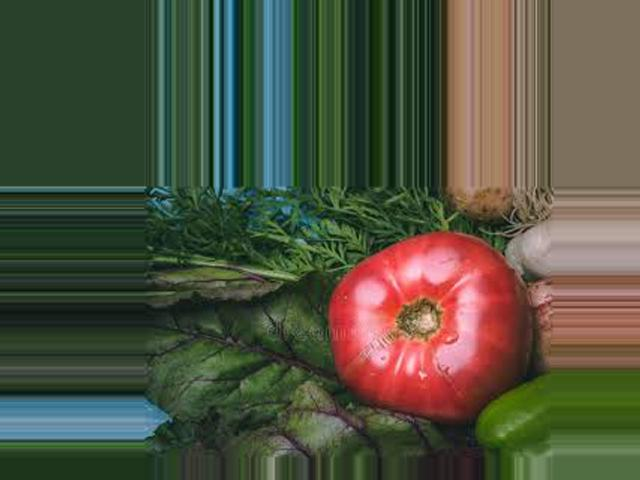tomato: (329, 231, 536, 425)
